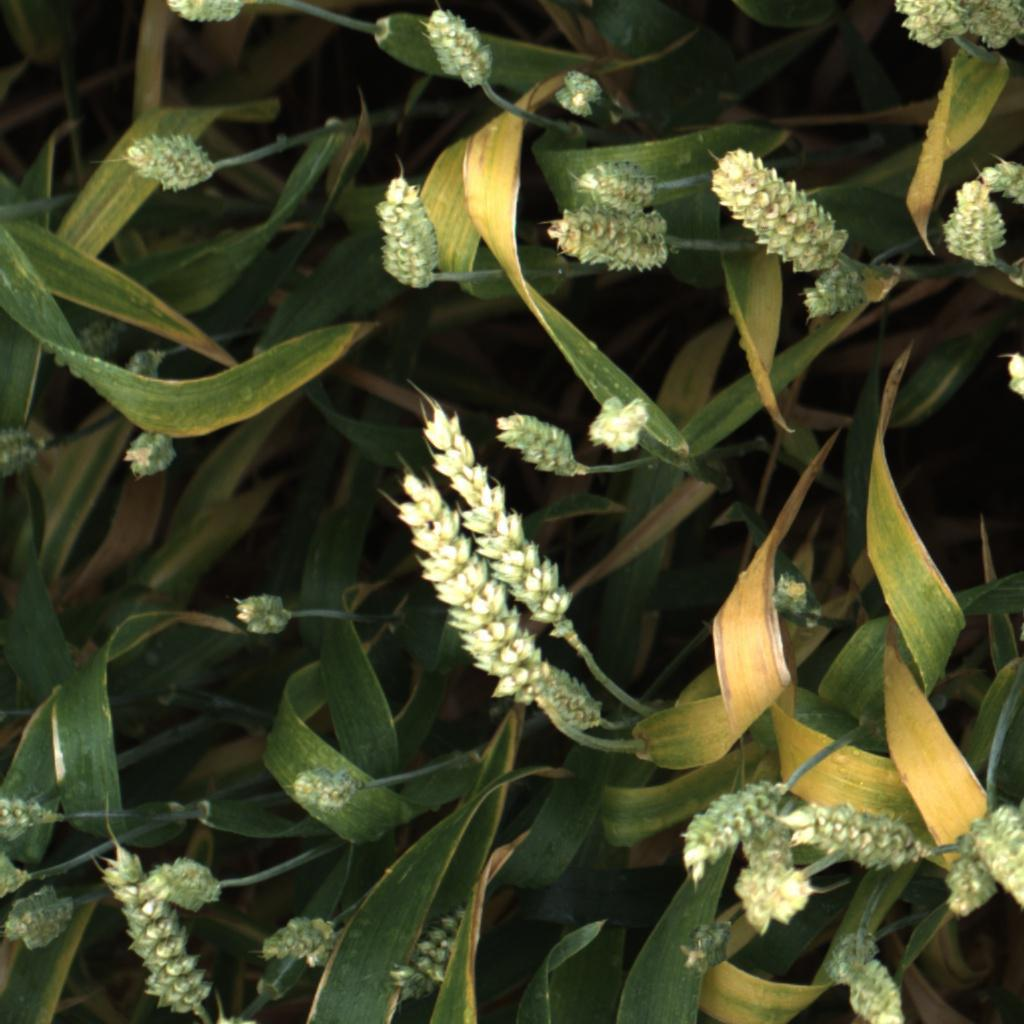0-0: (394, 383, 585, 643), (387, 477, 542, 723), (96, 839, 218, 1013), (699, 148, 857, 273), (670, 760, 787, 879), (364, 170, 451, 291), (787, 793, 925, 869), (388, 892, 480, 1004), (534, 207, 673, 273), (958, 794, 1024, 921), (417, 1, 499, 94), (793, 263, 901, 329), (936, 182, 1010, 275), (483, 408, 581, 477), (127, 125, 218, 198), (733, 863, 815, 940), (3, 883, 81, 962), (524, 655, 602, 732), (876, 1, 969, 61), (568, 155, 668, 210), (584, 391, 663, 459), (261, 907, 332, 974), (150, 854, 229, 914), (284, 761, 367, 817), (930, 856, 997, 922), (955, 3, 1024, 61), (848, 961, 909, 1024), (118, 426, 185, 483), (1, 788, 68, 845), (817, 923, 874, 988), (224, 589, 295, 641), (768, 561, 821, 623), (678, 919, 734, 977), (552, 65, 608, 122), (981, 155, 1024, 227), (76, 311, 131, 365), (158, 0, 250, 30), (0, 425, 45, 484), (0, 850, 35, 901), (1005, 347, 1024, 403)
